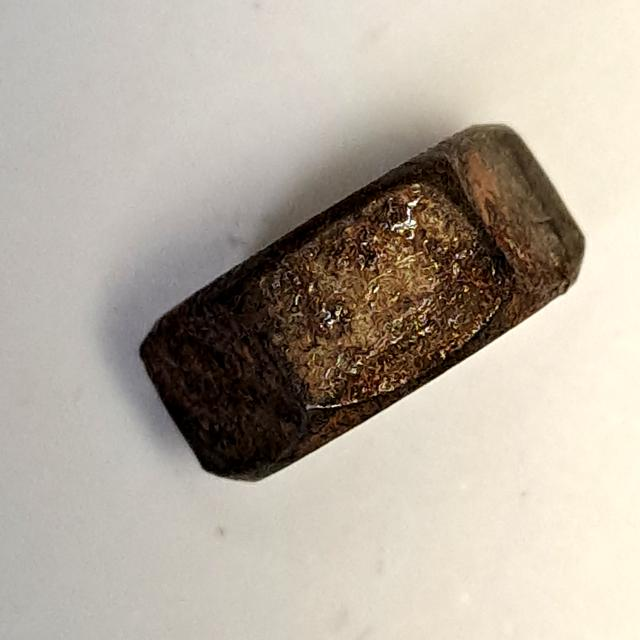Side_Rust: (126, 113, 597, 495)
